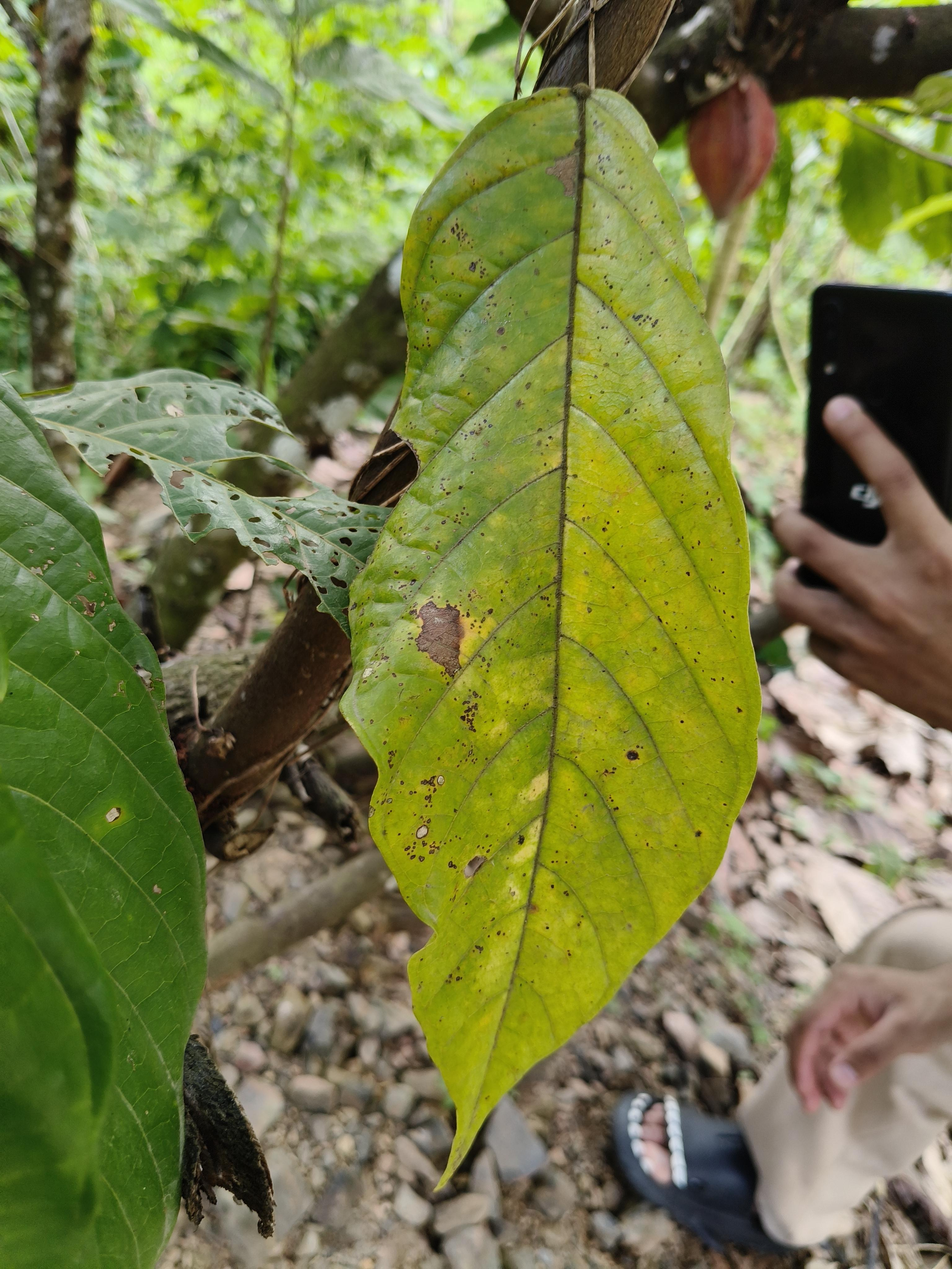deficiencia_potasio: (344, 53, 781, 1187)
